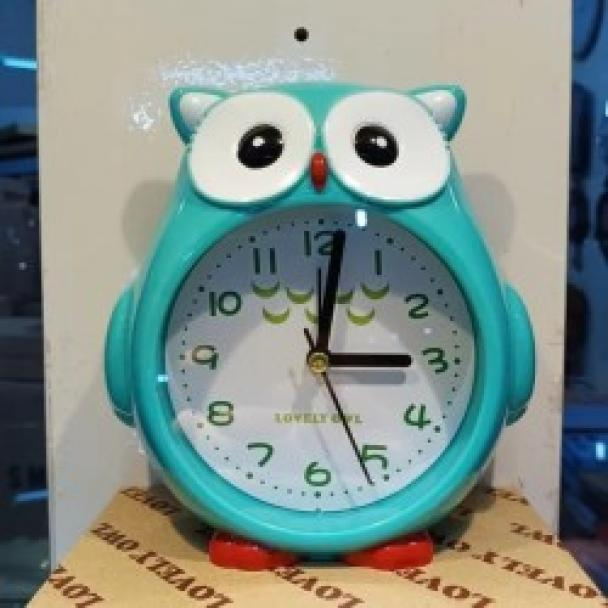Jam: (134, 192, 508, 545)
